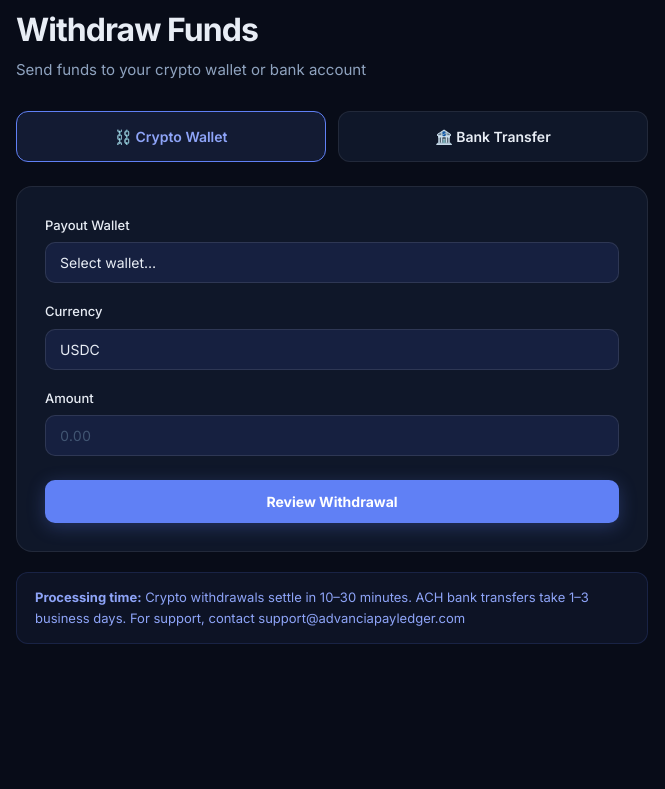
Test: Withdraw › confirm step › shows confirm withdrawal heading
Select "Main ETH — 0xabcdef…cdef12 (USDC) ★ Primary" in the dropdown below "Payout Wallet" at (332, 263), box [45,242,619,283]
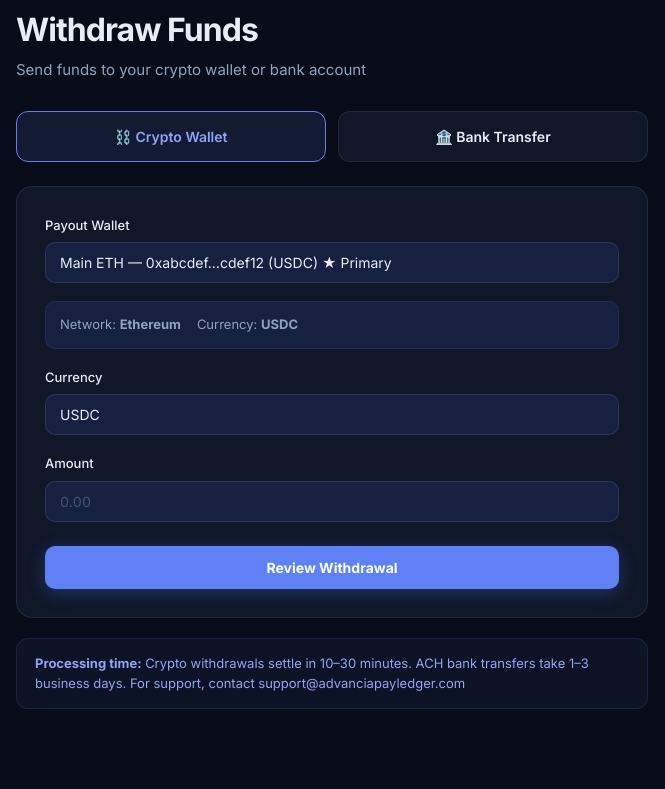
Type "50" into the number field with placeholder "0.00" at (332, 501), box [45,481,619,522]
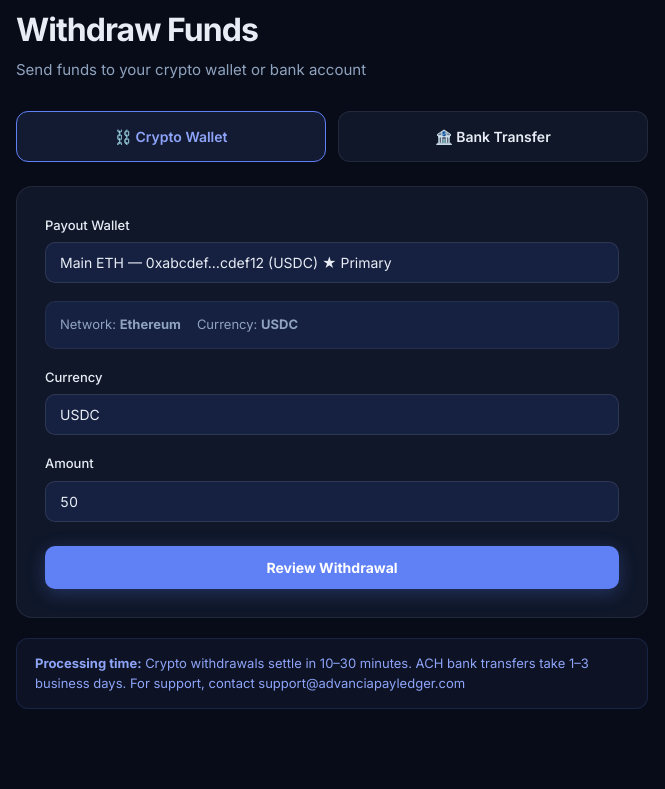
Submit the form, box [16,186,648,618]
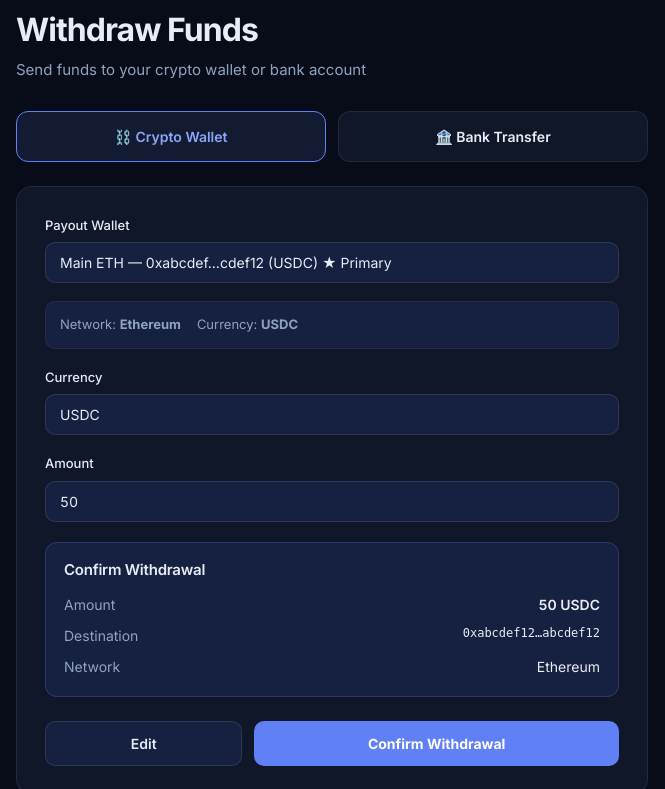
Result: the heading "Confirm Withdrawal" is shown at [64,560,205,579]
